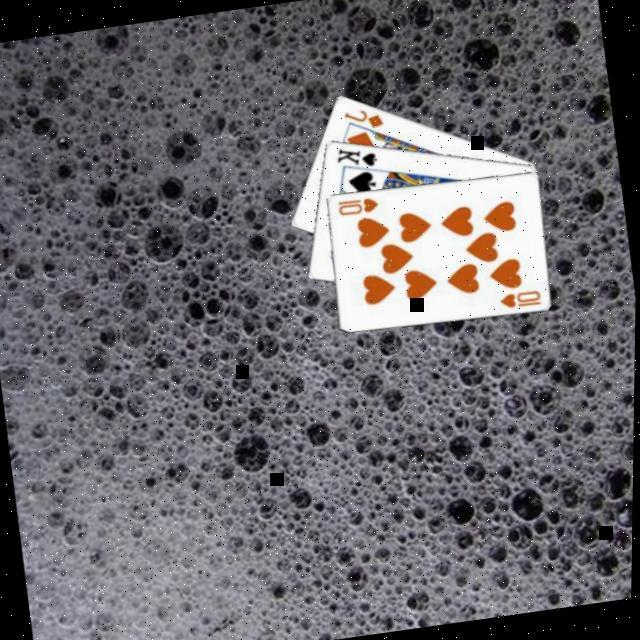10H: (494, 287, 542, 313), (333, 194, 380, 220)
JD: (338, 104, 386, 136)
KS: (331, 140, 378, 174)
